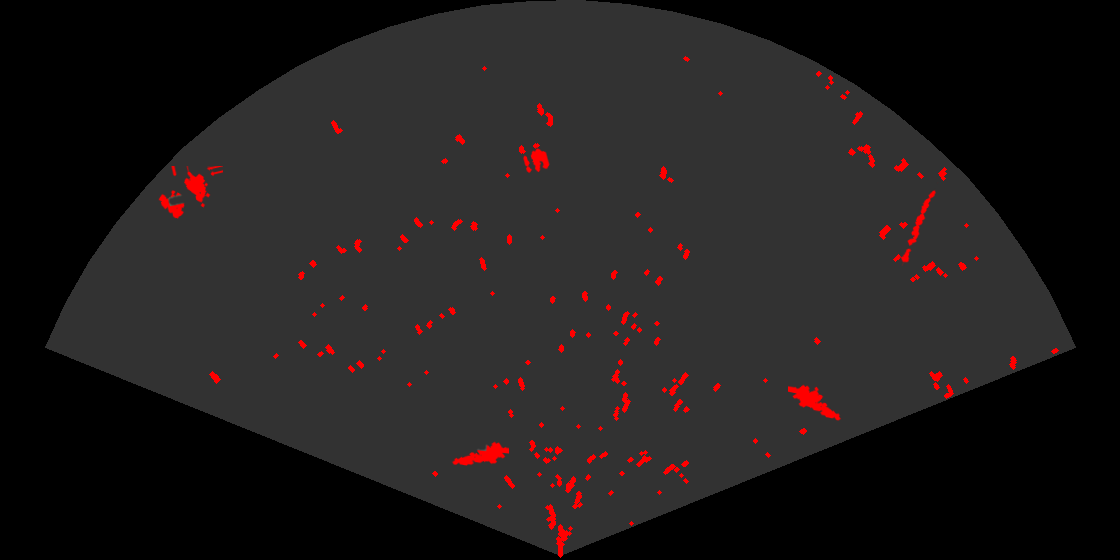ball: (522, 147, 551, 175)
cage: (157, 166, 223, 220)
chain: (899, 182, 939, 266)
frogman: (788, 383, 843, 422), (451, 440, 509, 467)
